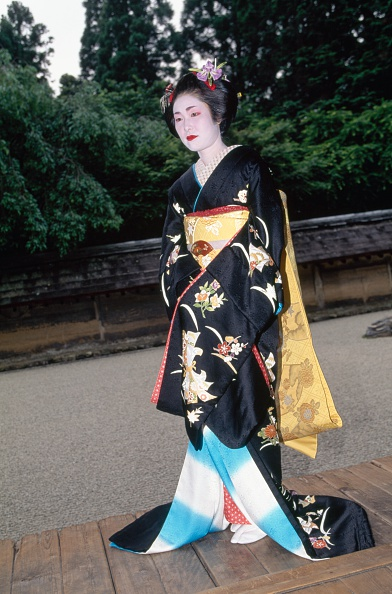em pe: (125, 55, 308, 551)
